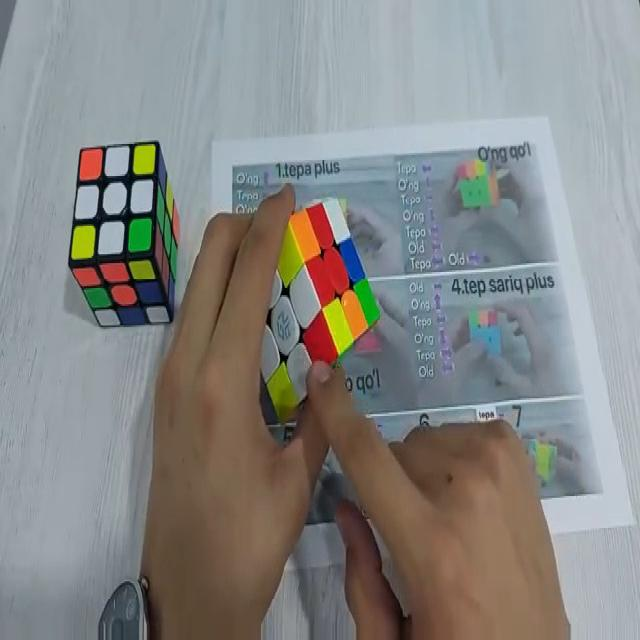Rub: (254, 195, 380, 424), (69, 142, 179, 328)
